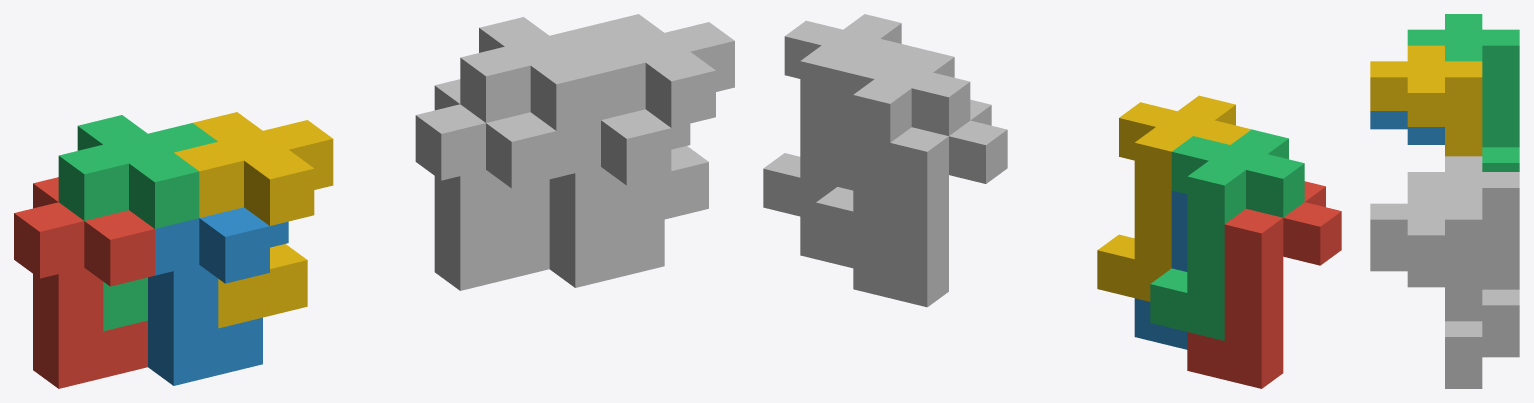
The model's file is tiling.obj.
The picture shows the model from 3 angles, left to right: view 1: azimuth 30°, elevation 25°; view 2: azimuth 150°, elevation 25°; view 3: azimuth 270°, elevation 25°; orthographic projection. The views are drawn at different scales.
Parts seen in each view (by area): view 1: copy_1_domain_5, copy_1_domain_1, copy_1_domain_4, copy_1_domain_8, copy_1_domain_6, copy_1_domain_2, copy_1_domain_3, copy_1_domain_7; view 2: copy_1_domain_7, copy_1_domain_3, copy_1_domain_1, copy_1_domain_5, copy_1_domain_8, copy_1_domain_4, copy_1_domain_2, copy_1_domain_6; view 3: copy_1_domain_8, copy_1_domain_7, copy_1_domain_4, copy_1_domain_3, copy_1_domain_6, copy_1_domain_2, copy_1_domain_5.
Part boxes in pixels (left/top/right/bottom): copy_1_domain_5: left=415, top=79, right=556, bottom=290; copy_1_domain_1: left=14, top=177, right=154, bottom=388; copy_1_domain_4: left=174, top=112, right=333, bottom=328; copy_1_domain_8: left=575, top=14, right=734, bottom=230; copy_1_domain_6: left=549, top=109, right=690, bottom=287; copy_1_domain_2: left=148, top=207, right=288, bottom=385; copy_1_domain_3: left=58, top=115, right=217, bottom=331; copy_1_domain_7: left=460, top=17, right=619, bottom=233; copy_1_domain_7: left=816, top=48, right=970, bottom=259; copy_1_domain_3: left=1150, top=129, right=1304, bottom=340; copy_1_domain_1: left=1187, top=181, right=1341, bottom=388; copy_1_domain_5: left=853, top=99, right=1007, bottom=307; copy_1_domain_8: left=763, top=14, right=916, bottom=220; copy_1_domain_4: left=1097, top=95, right=1251, bottom=301; copy_1_domain_2: left=1134, top=190, right=1187, bottom=349; copy_1_domain_6: left=800, top=109, right=853, bottom=268; copy_1_domain_8: left=1370, top=188, right=1482, bottom=370; copy_1_domain_7: left=1407, top=156, right=1519, bottom=339; copy_1_domain_4: left=1370, top=45, right=1482, bottom=156; copy_1_domain_3: left=1407, top=14, right=1519, bottom=171; copy_1_domain_6: left=1370, top=253, right=1482, bottom=388; copy_1_domain_2: left=1370, top=111, right=1444, bottom=144; copy_1_domain_5: left=1482, top=339, right=1519, bottom=357.
Size of the model in its own units: 15 by 5 by 4.
